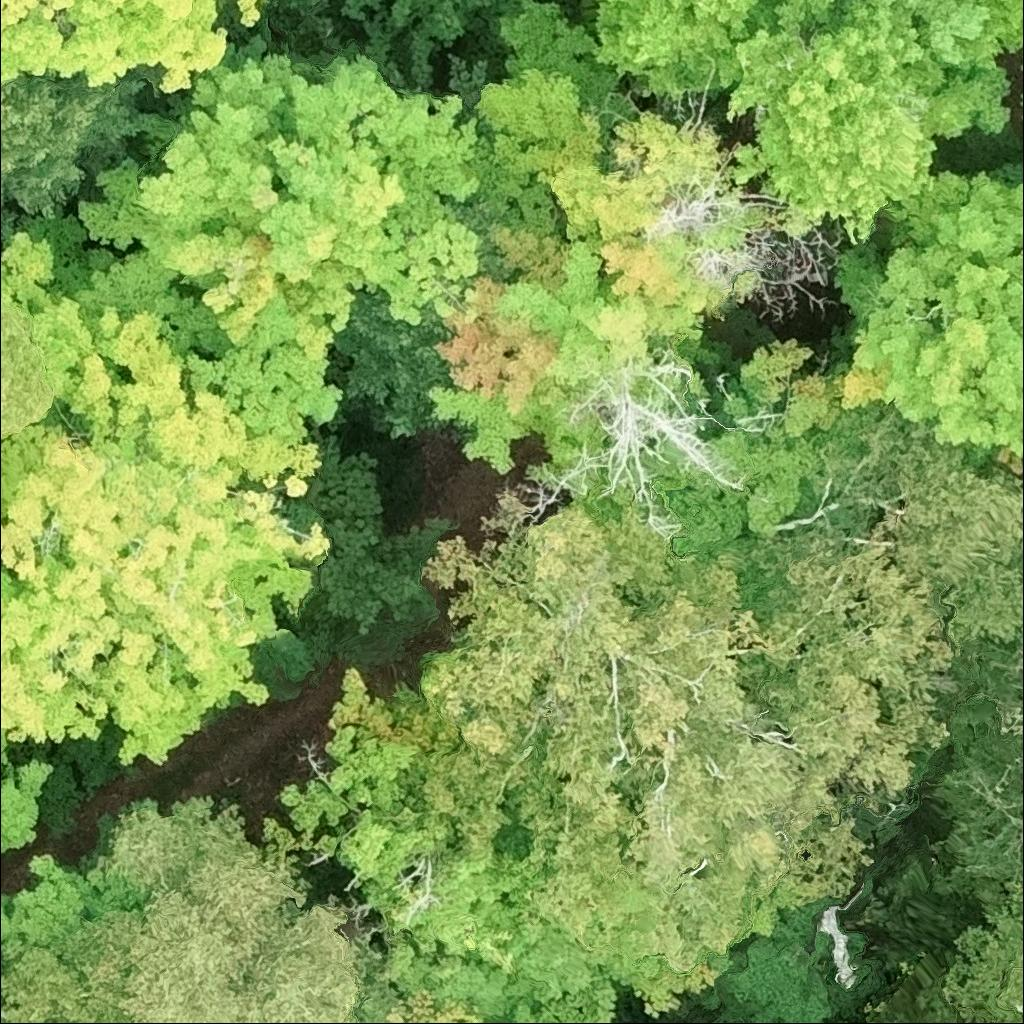crown: (384, 411, 1023, 970), (13, 32, 483, 448), (0, 230, 333, 768), (0, 793, 363, 1023), (643, 308, 892, 561), (831, 158, 1023, 474), (424, 218, 657, 473), (391, 848, 727, 1020), (725, 0, 938, 246), (443, 0, 642, 255), (259, 667, 448, 922), (544, 106, 749, 340), (0, 71, 167, 218), (0, 0, 233, 100), (376, 936, 615, 1023), (587, 0, 780, 100), (900, 0, 1015, 141), (0, 853, 138, 964), (941, 877, 1023, 1023), (0, 304, 53, 440), (0, 733, 57, 852), (956, 0, 1023, 68), (234, 0, 270, 30), (268, 0, 323, 13), (0, 893, 10, 943), (1018, 90, 1023, 126), (423, 1019, 443, 1023), (469, 1020, 482, 1023)
